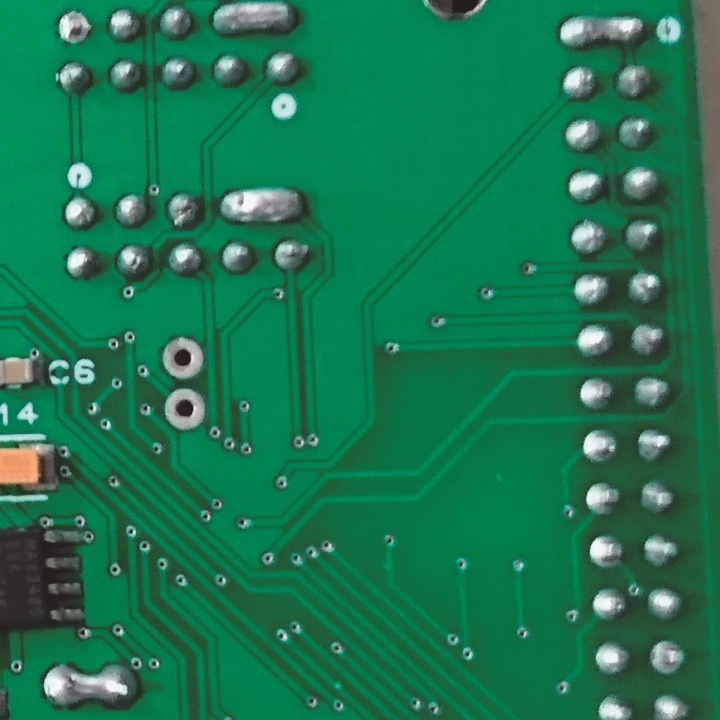F: (161, 381, 207, 438), (158, 334, 207, 384), (583, 529, 627, 573), (581, 426, 623, 466), (649, 639, 688, 679), (56, 9, 93, 46)
P: (39, 657, 141, 712), (557, 11, 647, 54), (217, 185, 306, 227), (204, 3, 301, 40)
